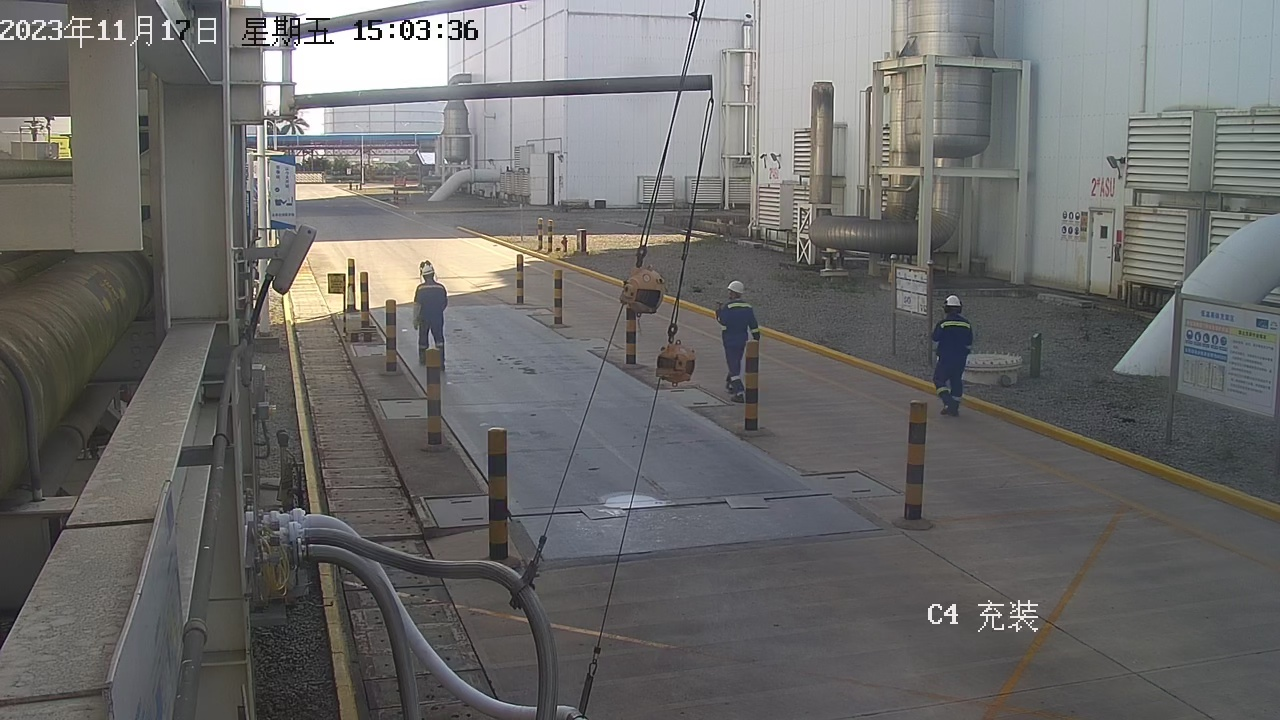Head_with_Helmet: (933, 288, 974, 322), (407, 252, 443, 285), (723, 275, 755, 303)
Uniform: (393, 275, 468, 382), (922, 312, 988, 424), (715, 293, 775, 416)
